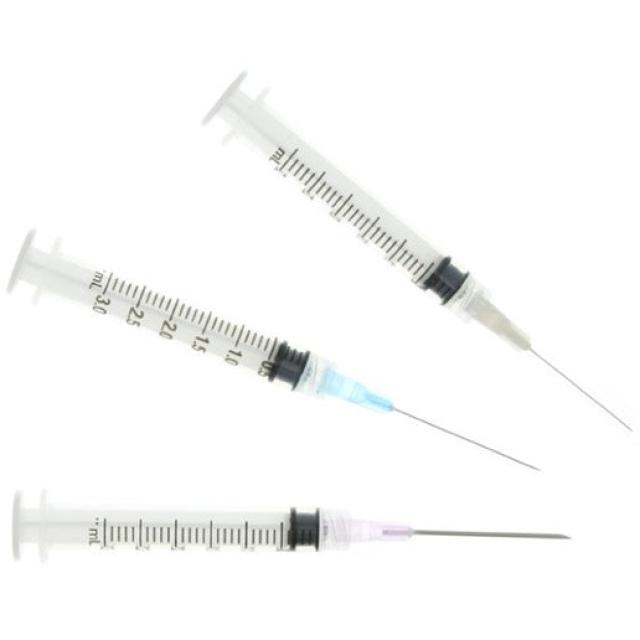syringe: (198, 66, 632, 433), (5, 225, 542, 472), (10, 486, 572, 562)
